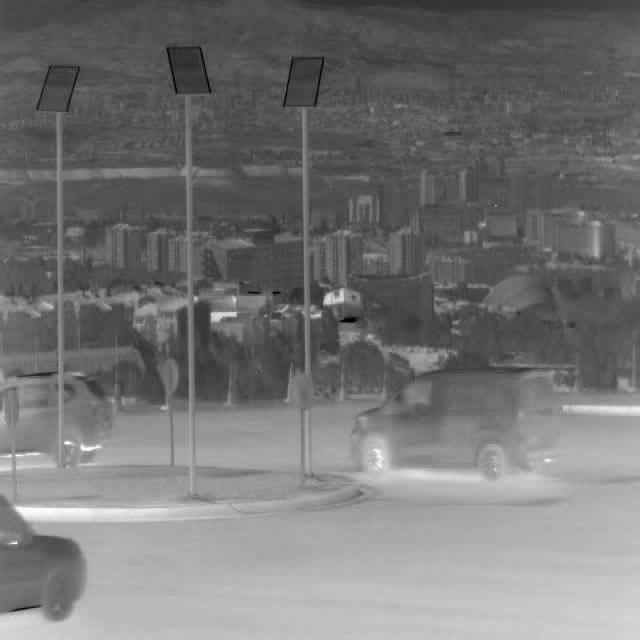Car: (351, 368, 559, 481), (1, 494, 90, 618), (0, 374, 110, 466)
